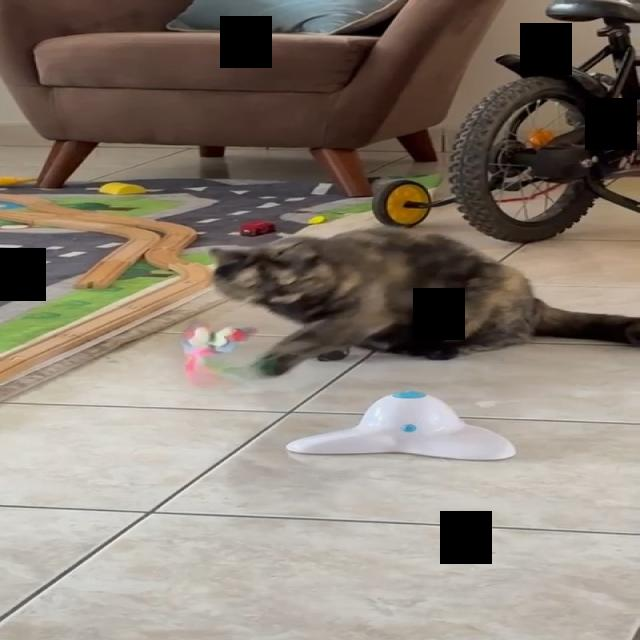authorized: (206, 225, 638, 377)
